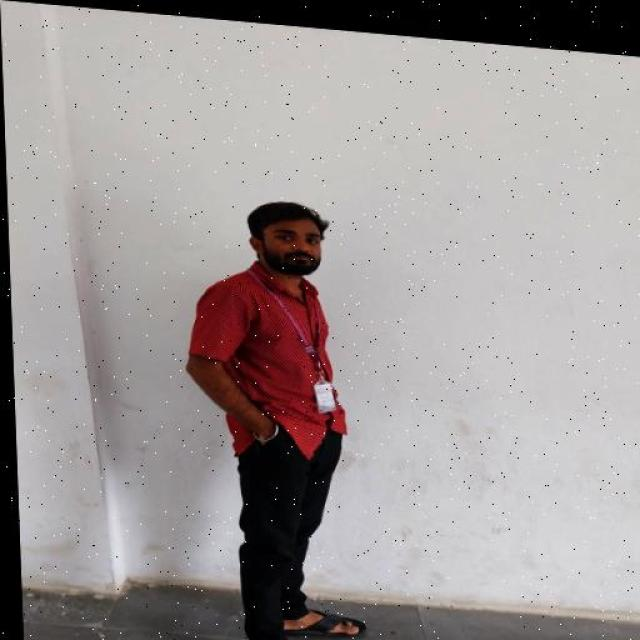id_card: (268, 279, 338, 418)
